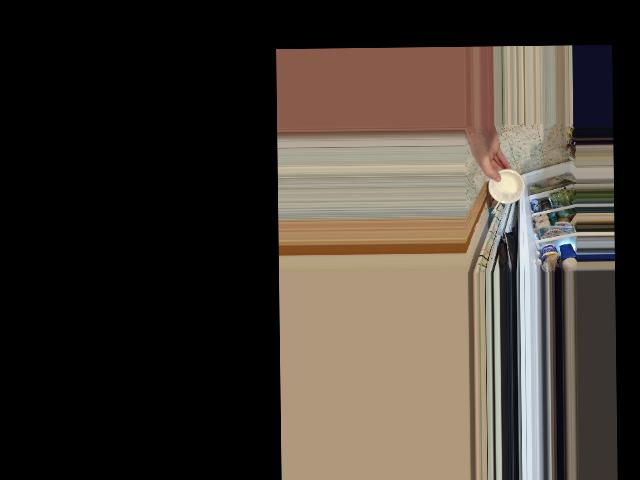cotage: (490, 171, 523, 203)
